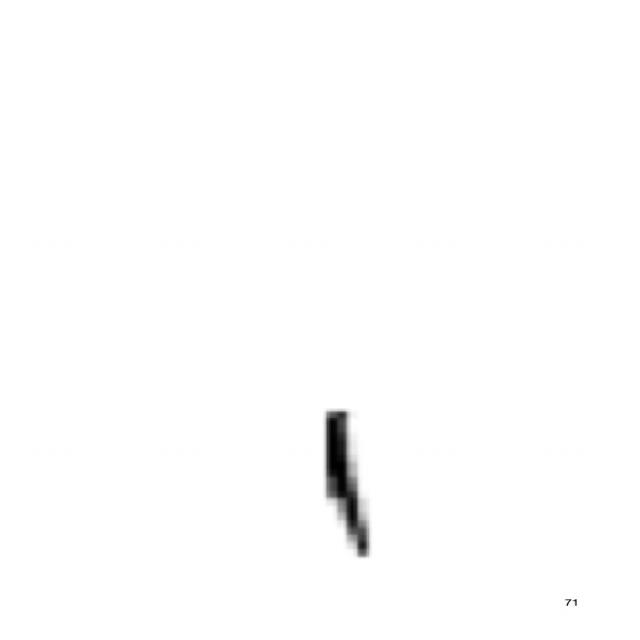1 -one-: (301, 394, 389, 570)
